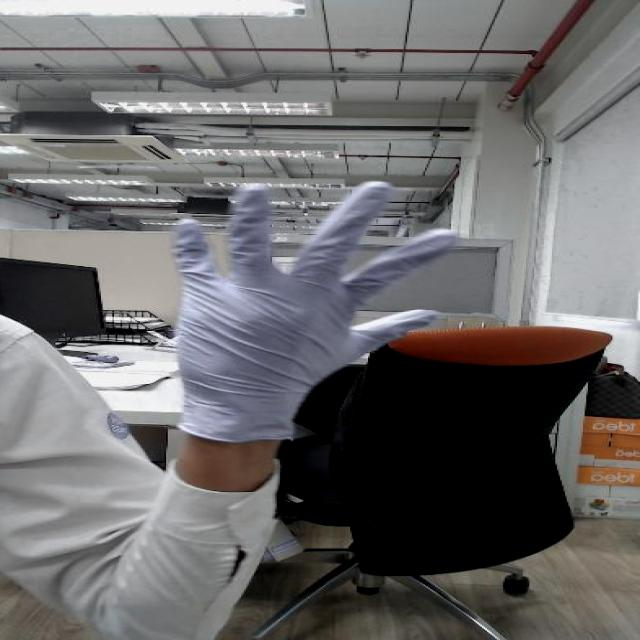glove: (109, 167, 487, 413)
